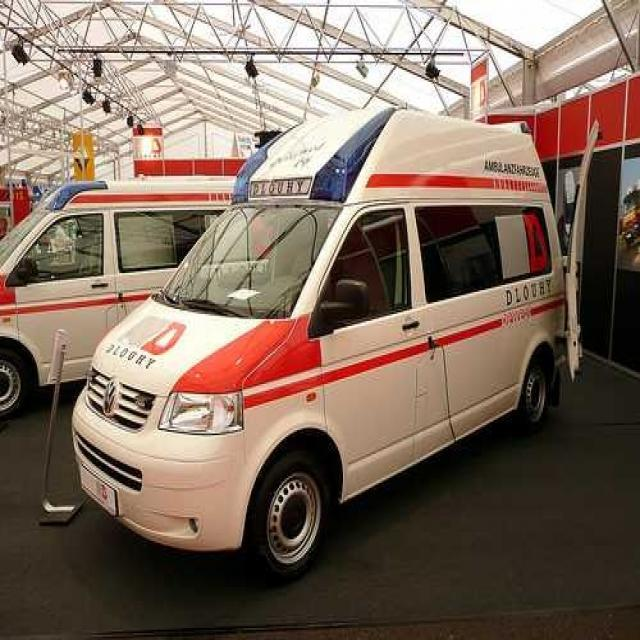emergency-vehicle: (73, 106, 572, 550)
